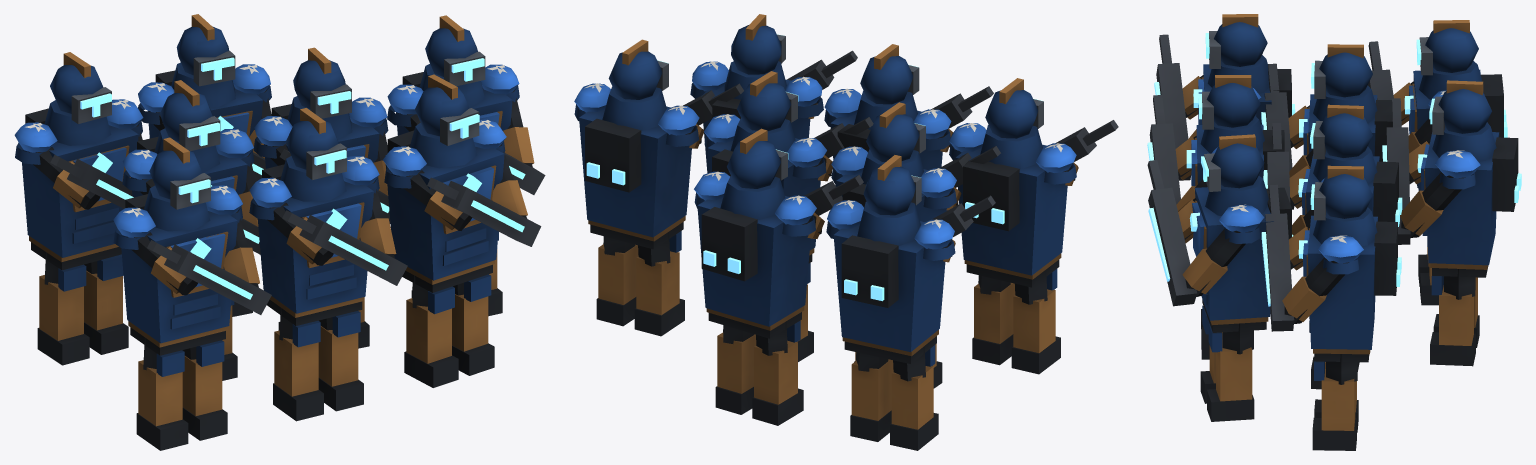
Rendered from squad_dl8_blue.glb.
3 views of the same model, side by side, from view 1: azimuth 30°, elevation 25°; view 2: azimuth 150°, elevation 25°; view 3: azimuth 270°, elevation 25° (orthographic). The views are drawn at different scales.
Visible parts, largest first — view 1: squad_dl8_blue; view 2: squad_dl8_blue; view 3: squad_dl8_blue.
Boxes of the visible parts, x1,y1,x2,y2 form: squad_dl8_blue: (14,14,545,450); squad_dl8_blue: (574,14,1118,450); squad_dl8_blue: (1147,14,1521,450).
Size of the model in its own units: 0.6966 by 0.4109 by 0.5206.
2 materials, 1 textured.
